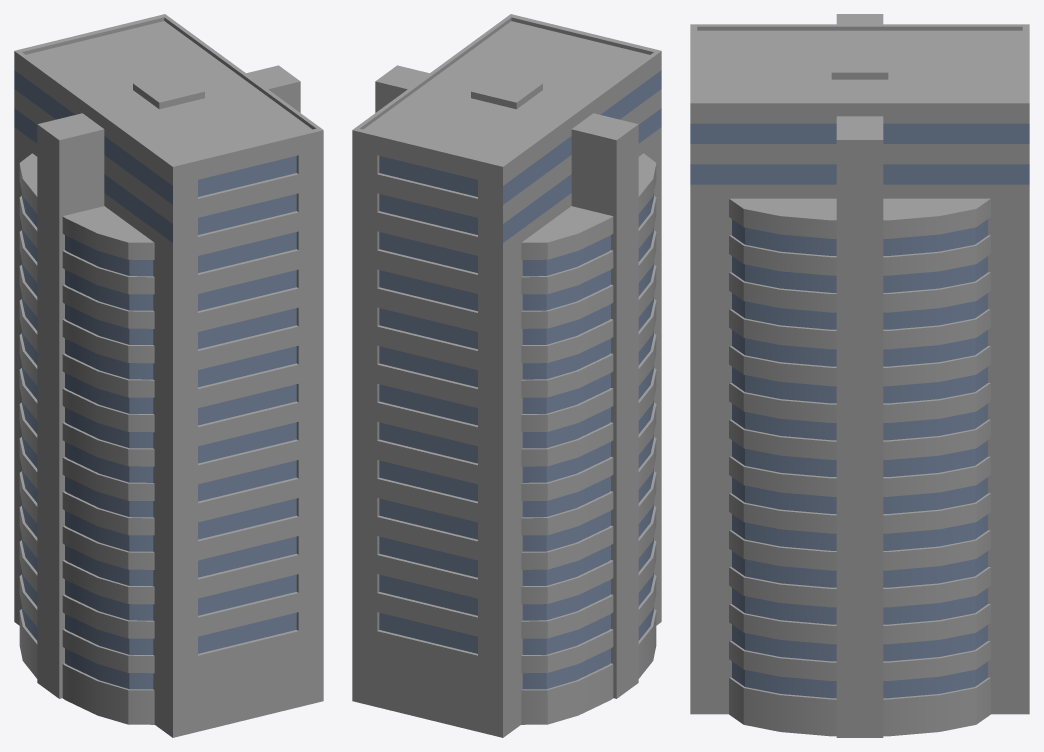
Rendered from SpecialBuilding7.fbx.
3 renders of one model, left to right at view 1: azimuth 30°, elevation 25°; view 2: azimuth 150°, elevation 25°; view 3: azimuth 270°, elevation 25°, orthographic. The views are drawn at different scales.
Parts seen in each view (by area): view 1: SpecialBuilding12; view 2: SpecialBuilding12; view 3: SpecialBuilding12.
Part boxes in pixels (bbox=[...]): SpecialBuilding12: bbox=[14, 14, 323, 737]; SpecialBuilding12: bbox=[352, 14, 661, 737]; SpecialBuilding12: bbox=[690, 14, 1029, 737].
Bounding box in the file's own units: 10.56 × 24 × 12.02.
